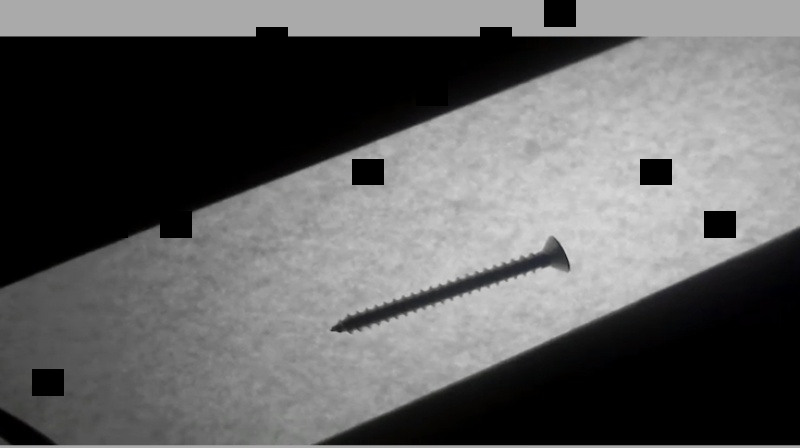S002: (324, 231, 577, 337)
